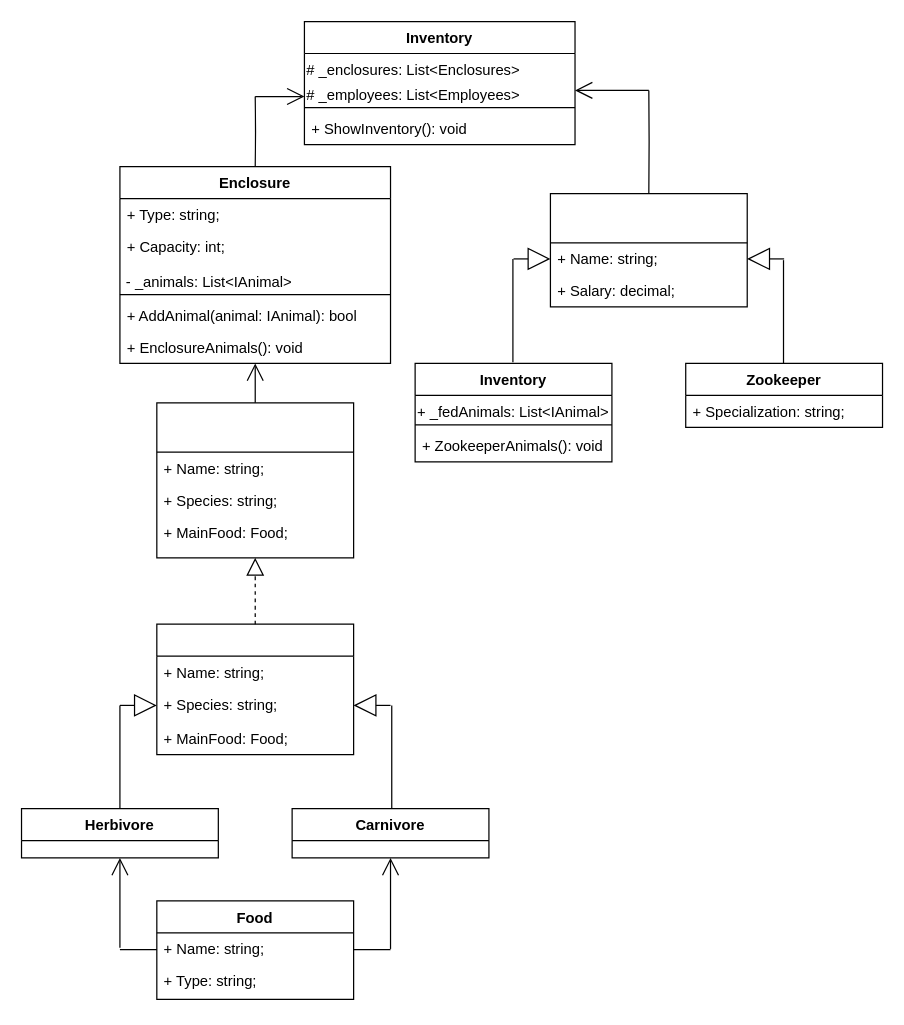
The diagram is 904 pixels wide and 1025 high, and some of its shapes have lost their labels. The box of each missing label's shape, as (x1, y1, x2, y2) in pixels:
"Abstract" Employee: (549, 192, 747, 307)
"Interface" IAnimal: (156, 402, 354, 558)
Animal: (156, 623, 354, 755)
